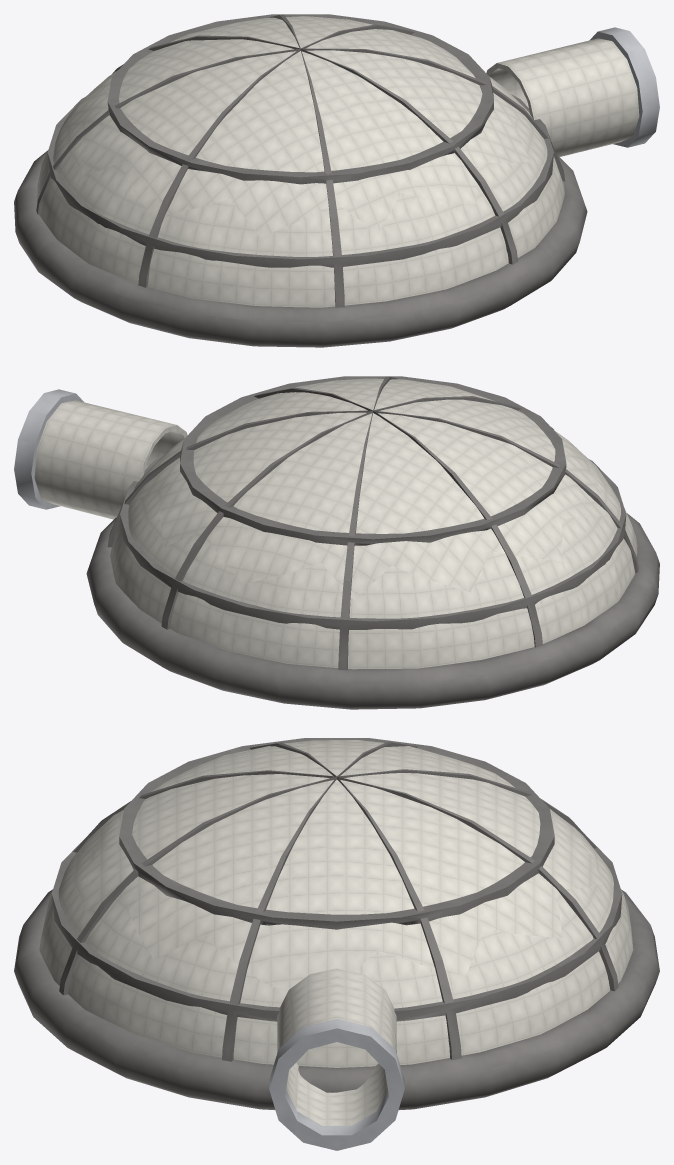
Rendered from rover11_inflatable_dome_deployed.glb.
3 views of the same model, one above another, from view 1: azimuth 30°, elevation 25°; view 2: azimuth 150°, elevation 25°; view 3: azimuth 270°, elevation 25° (orthographic). The views are drawn at different scales.
Parts seen in each view (by area): view 1: dome, base_bumper, restraint_straps, airlock_tunnel, tunnel_collar; view 2: dome, base_bumper, restraint_straps, airlock_tunnel, tunnel_collar; view 3: dome, restraint_straps, base_bumper, airlock_tunnel, tunnel_collar.
Part boxes in pixels (box(x1,y1,x2,y2)): dome: box(37, 16, 564, 307); base_bumper: box(14, 150, 587, 347); restraint_straps: box(36, 14, 565, 307); airlock_tunnel: box(486, 38, 639, 156); tunnel_collar: box(590, 27, 659, 147); dome: box(110, 378, 637, 669); base_bumper: box(86, 513, 659, 709); restraint_straps: box(107, 376, 638, 670); airlock_tunnel: box(34, 400, 187, 519); tunnel_collar: box(14, 389, 83, 509); dome: box(39, 740, 633, 1067); restraint_straps: box(51, 738, 622, 1061); base_bumper: box(14, 889, 659, 1109); airlock_tunnel: box(277, 968, 396, 1125); tunnel_collar: box(269, 1019, 404, 1150).
Bounding box in the file's own units: 9.99 × 3.04 × 8.6.
3 materials, 3 textured.
